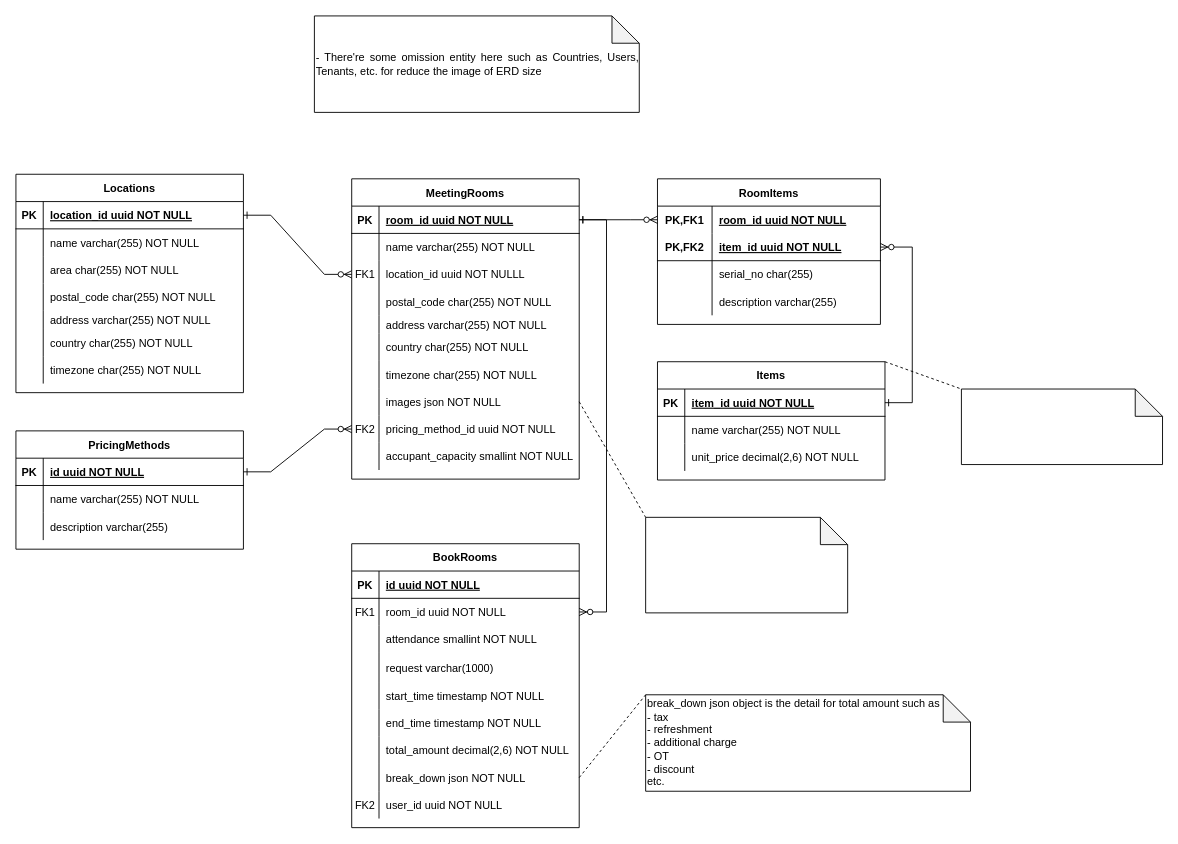
This 1178x844 diagram has some shape labels left out. The centre of each missing label's shape, as x and y in pixels:
"Images contains images for meeting room with proper size (lg, md, sm, etc)" belongs at [746,564].
"Items such as TV, whiteboard, etc." belongs at [1062,426].
